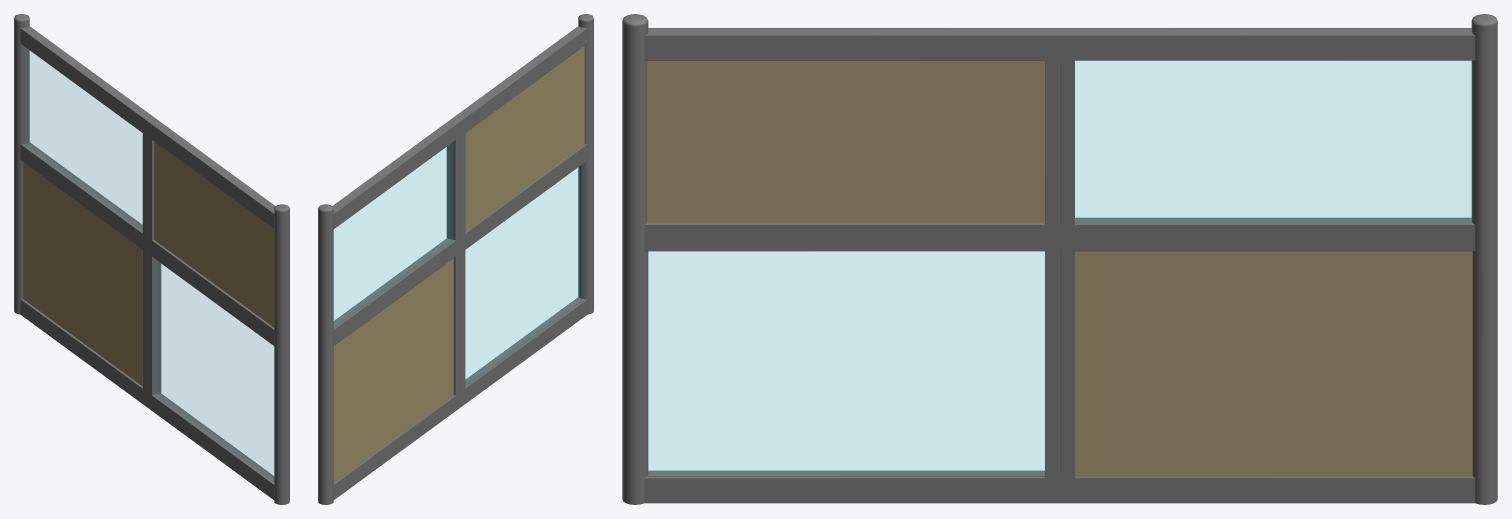
Rendered from Office_divider_wall_sides.fbx.
3 renders of one model, left to right at view 1: azimuth 30°, elevation 25°; view 2: azimuth 150°, elevation 25°; view 3: azimuth 270°, elevation 25°, orthographic. The views are drawn at different scales.
Parts seen in each view (by area): view 1: Office_divider_wall_half_windowDN, Office_divider_wall_half_windowUP; view 2: Office_divider_wall_half_windowUP, Office_divider_wall_half_windowDN; view 3: Office_divider_wall_half_windowDN, Office_divider_wall_half_windowUP.
Part boxes in pixels (bbox=[...]): Office_divider_wall_half_windowDN: bbox=[147, 119, 289, 504]; Office_divider_wall_half_windowUP: bbox=[14, 14, 155, 407]; Office_divider_wall_half_windowUP: bbox=[318, 119, 460, 504]; Office_divider_wall_half_windowDN: bbox=[452, 14, 593, 407]; Office_divider_wall_half_windowDN: bbox=[622, 14, 1060, 504]; Office_divider_wall_half_windowUP: bbox=[1059, 14, 1497, 504].
Size of the model in its own units: 0.06 by 1.24 by 2.03.
